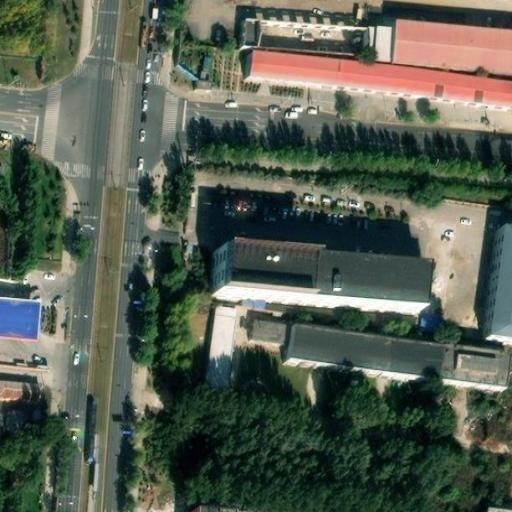building: (252, 319, 509, 386), (249, 47, 512, 105), (244, 19, 393, 64), (391, 19, 512, 72), (310, 256, 426, 309), (217, 242, 313, 302), (201, 308, 239, 413), (0, 370, 45, 432), (490, 225, 512, 338), (0, 294, 40, 338), (186, 499, 261, 512)
